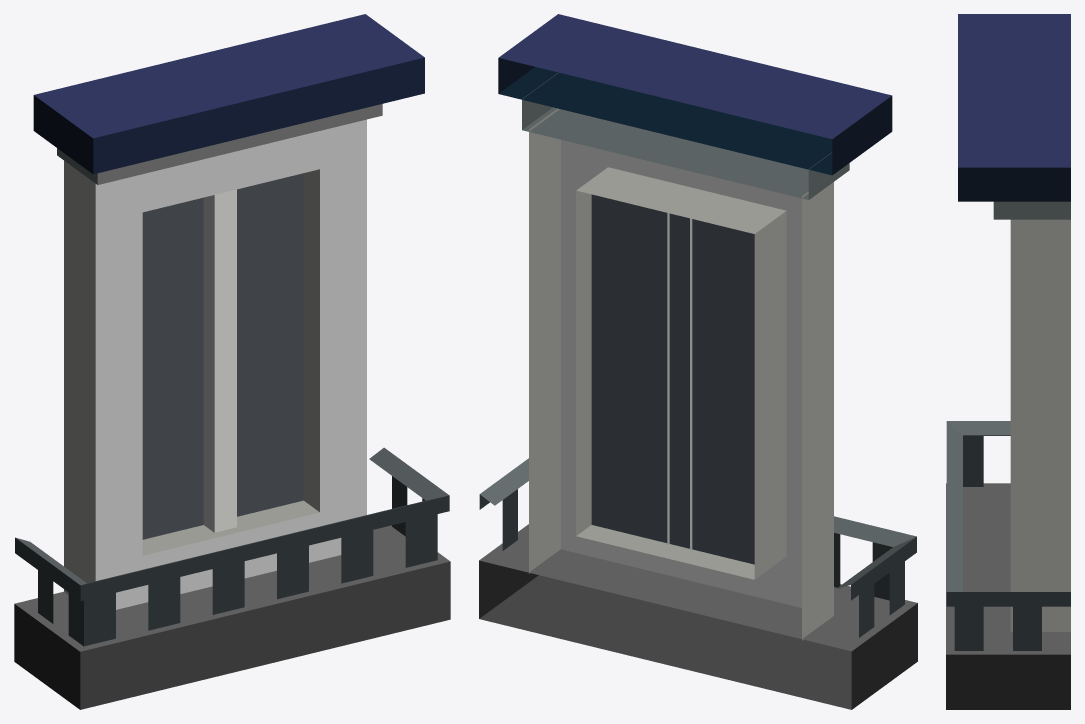
Rendered from TB_CITY_BD_Window_E.FBX.
3 views of the same model, side by side, from view 1: azimuth 30°, elevation 25°; view 2: azimuth 150°, elevation 25°; view 3: azimuth 270°, elevation 25° (orthographic). The views are drawn at different scales.
Visible parts, largest first — view 1: TB_CITY_BD_Window_E; view 2: TB_CITY_BD_Window_E; view 3: TB_CITY_BD_Window_E.
Boxes of the visible parts, left/top/right/bottom form: TB_CITY_BD_Window_E: left=14, top=14, right=450, bottom=709; TB_CITY_BD_Window_E: left=479, top=14, right=917, bottom=709; TB_CITY_BD_Window_E: left=946, top=14, right=1070, bottom=709.
Size of the model in its own units: 1.96 by 2.85 by 0.6036.
